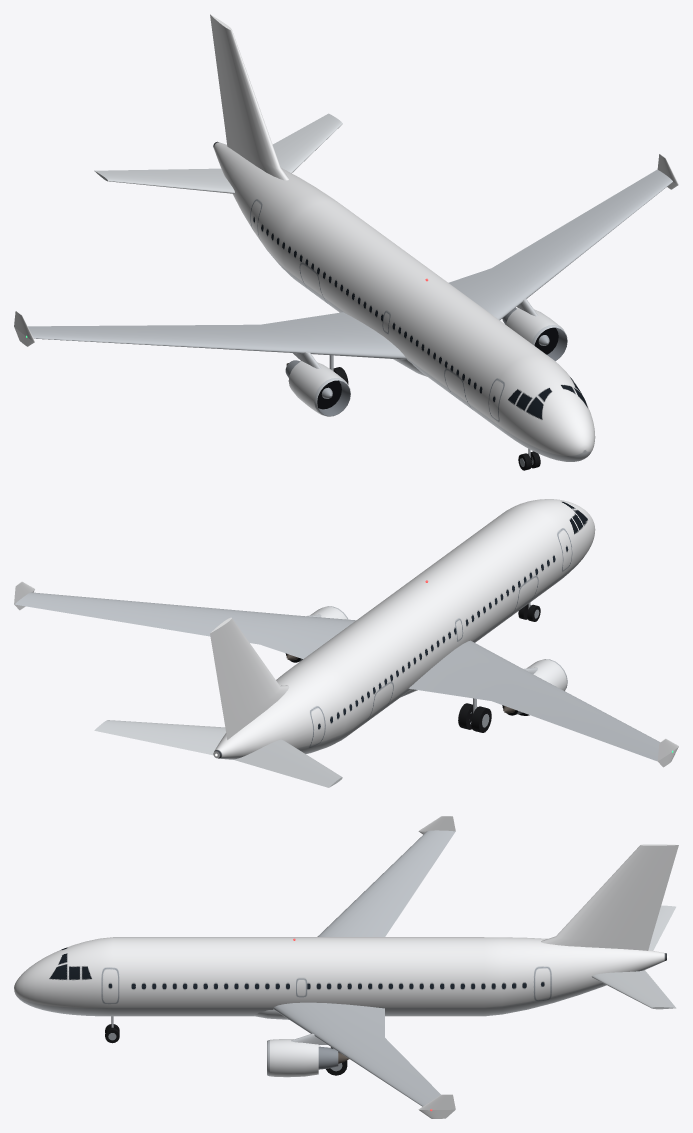
3 views of the same model, one above another, from view 1: azimuth 30°, elevation 25°; view 2: azimuth 150°, elevation 25°; view 3: azimuth 270°, elevation 25° (orthographic). The views are drawn at different scales.
Parts seen in each view (by area): view 1: body; view 2: body, gear; view 3: body, gear.
Part boxes in pixels (bbox=[...]): body: bbox=[14, 14, 678, 461]; body: bbox=[14, 499, 678, 787]; gear: bbox=[458, 602, 540, 732]; body: bbox=[14, 816, 678, 1118]; gear: bbox=[105, 1016, 347, 1075].
Size of the model in its own units: 34.34 by 11.16 by 34.46.
Materials: 19 (1 with a texture image).
